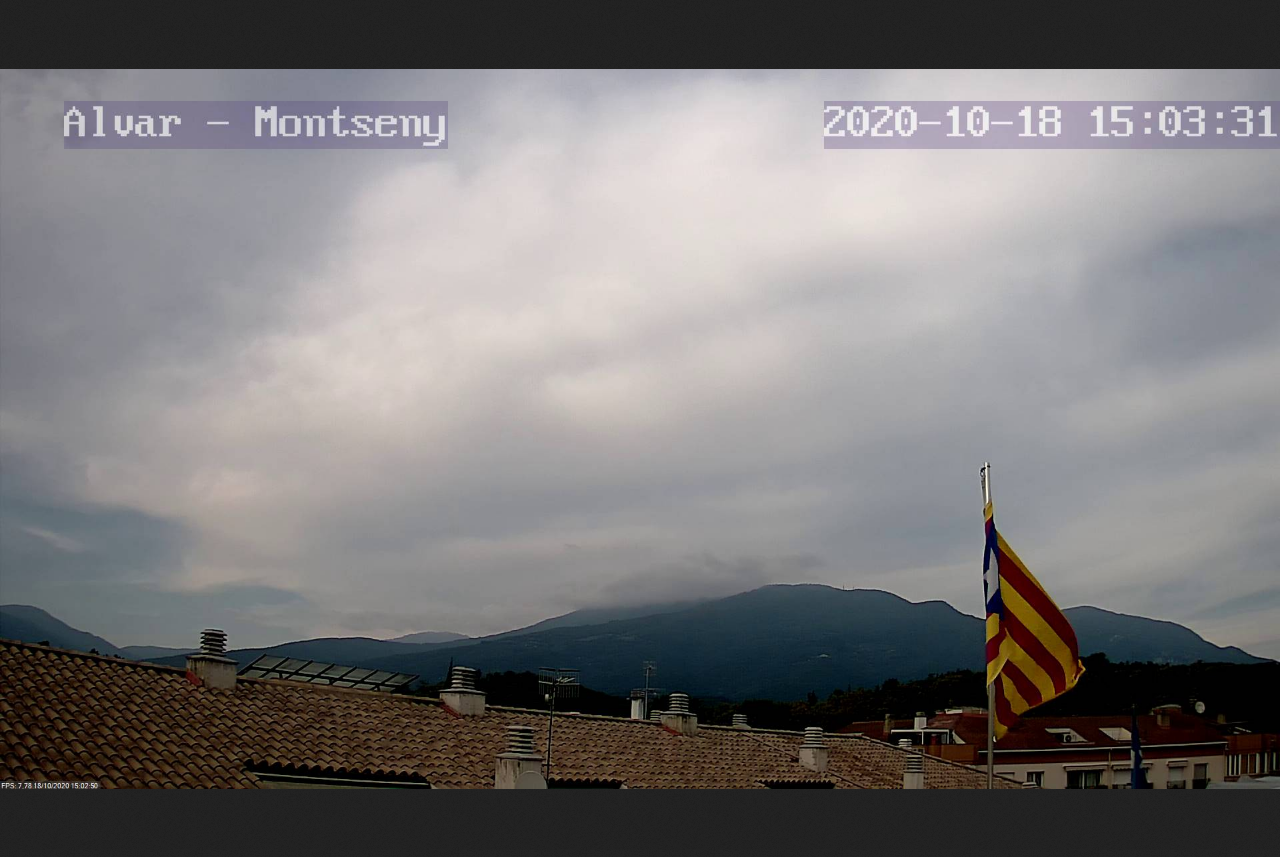maybe: (973, 491, 1086, 743)
